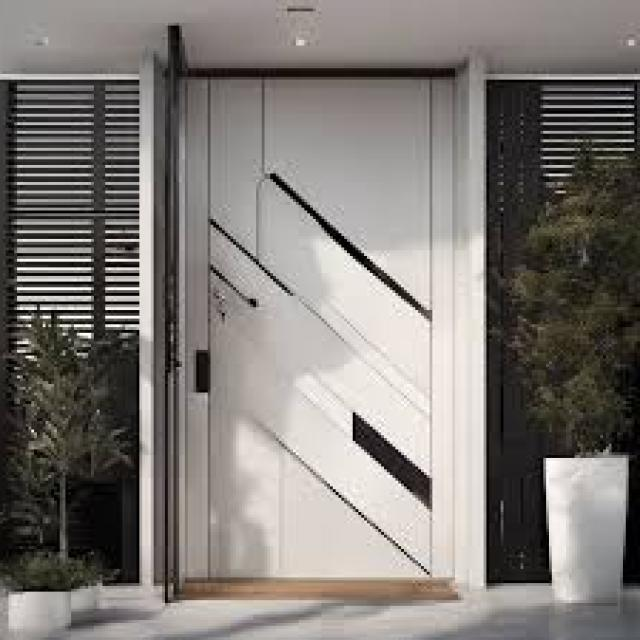door: (174, 70, 455, 596)
